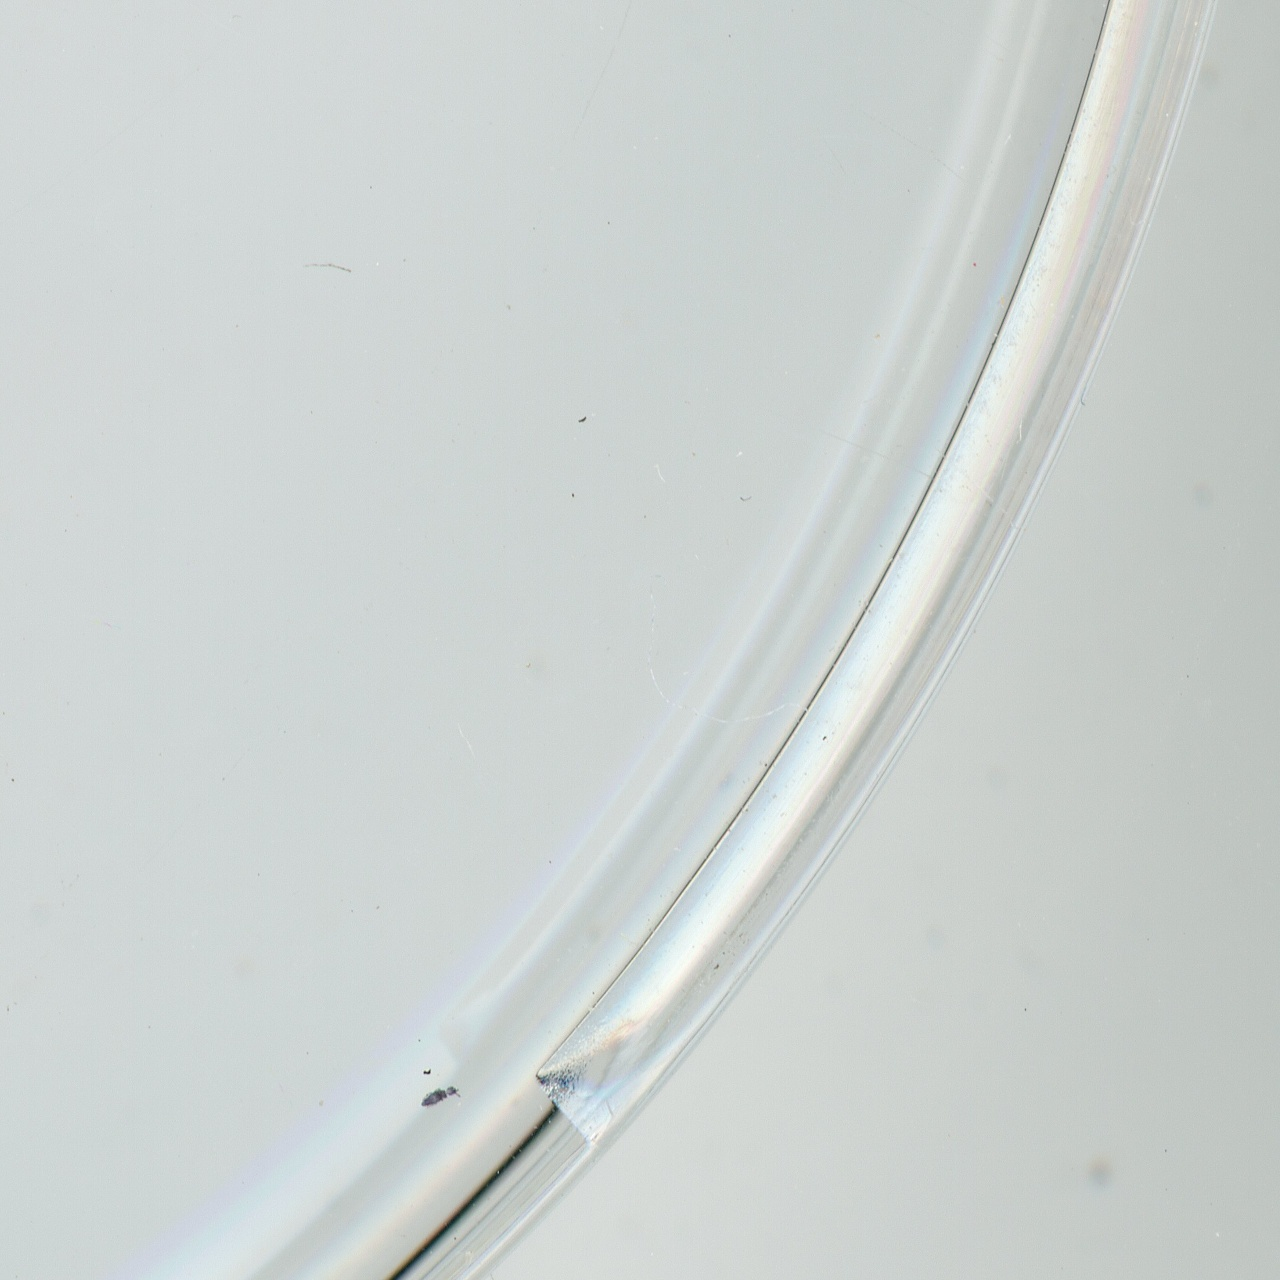arthropod: (416, 1081, 463, 1114)
